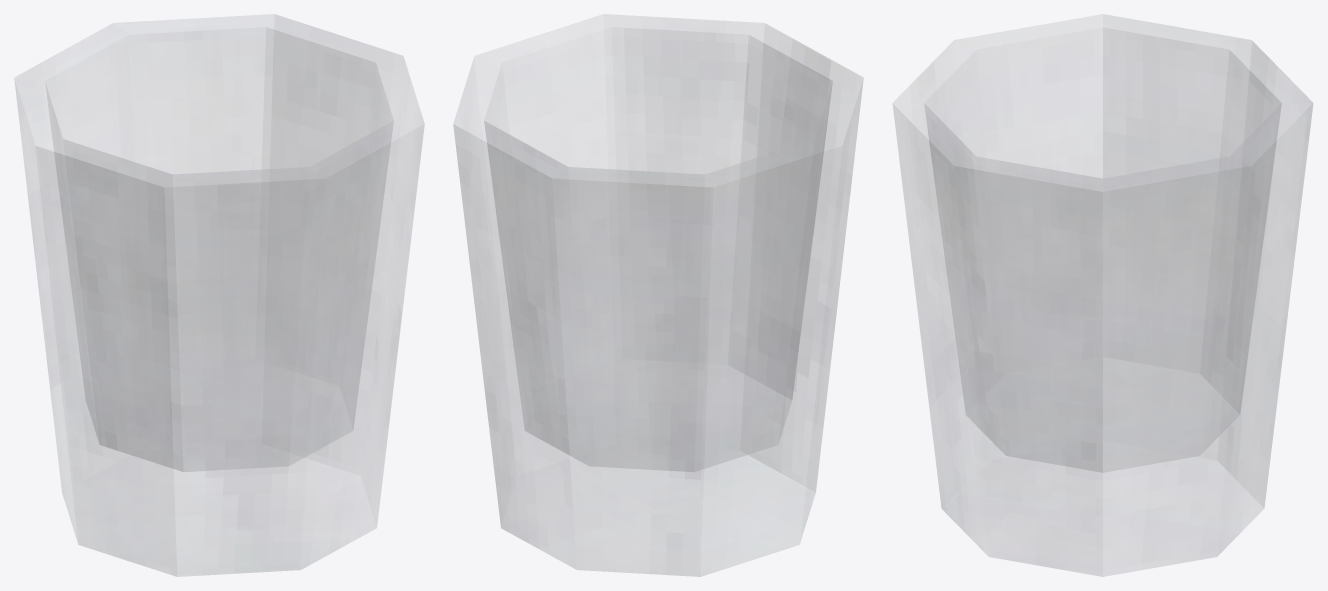
The model's file is cup3.glb.
The picture shows the model from 3 angles, left to right: view 1: azimuth 30°, elevation 25°; view 2: azimuth 150°, elevation 25°; view 3: azimuth 270°, elevation 25°; orthographic projection.
Visible parts, largest first — view 1: cup3; view 2: cup3; view 3: cup3.
Boxes of the visible parts, x1,y1,x2,y2 form: cup3: (14, 14, 424, 576); cup3: (453, 14, 863, 576); cup3: (892, 14, 1313, 576).
Size of the model in its own units: 0.1153 by 0.1226 by 0.1153.
Materials: 1 (1 with a texture image).
